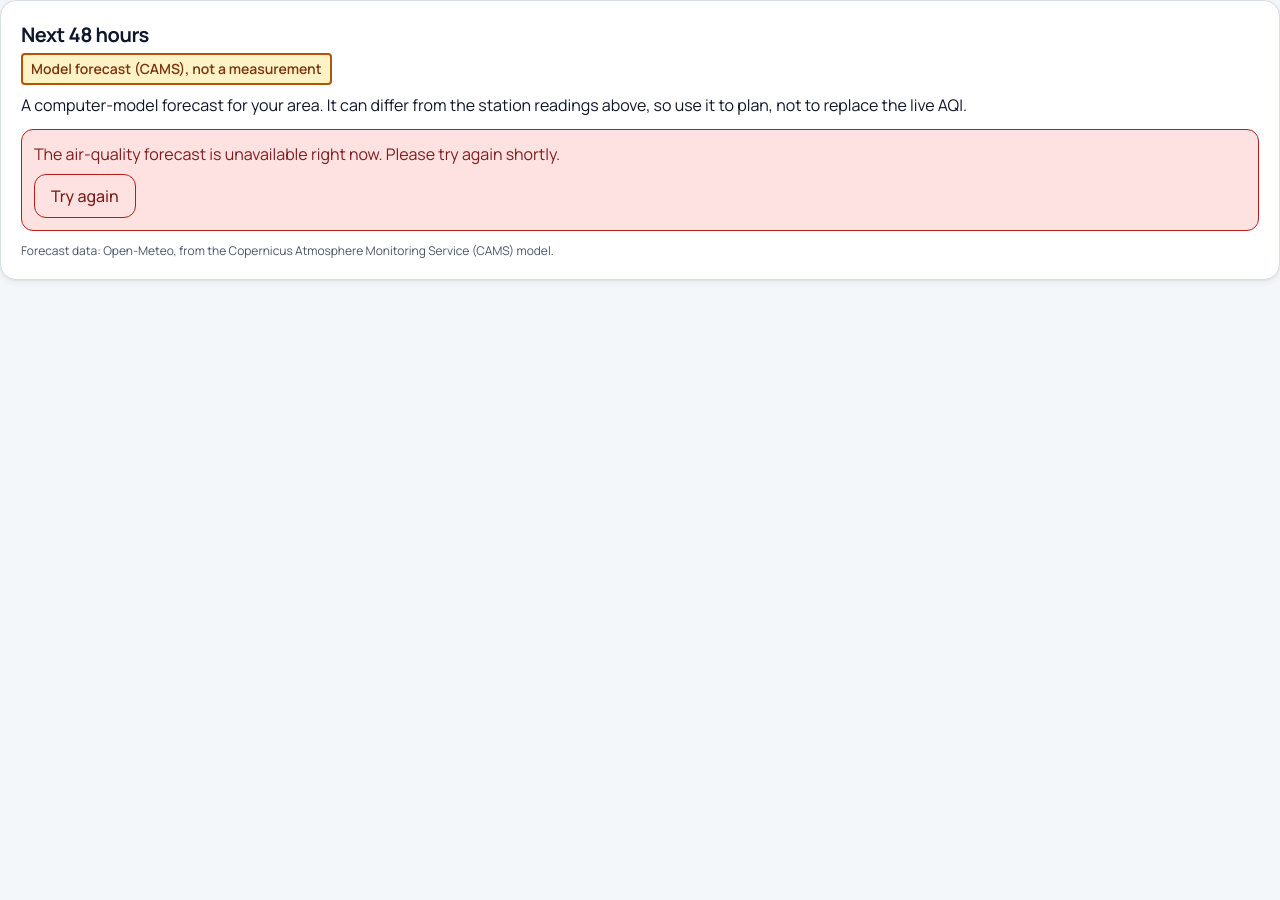
Test: Outlook › shows a readable error and retries
Expected: the message shows "The air-quality forecast is unavailable right now.", [34, 143, 560, 165]
Click the button "Try again" at coordinates (85, 196), box [34, 174, 136, 218]
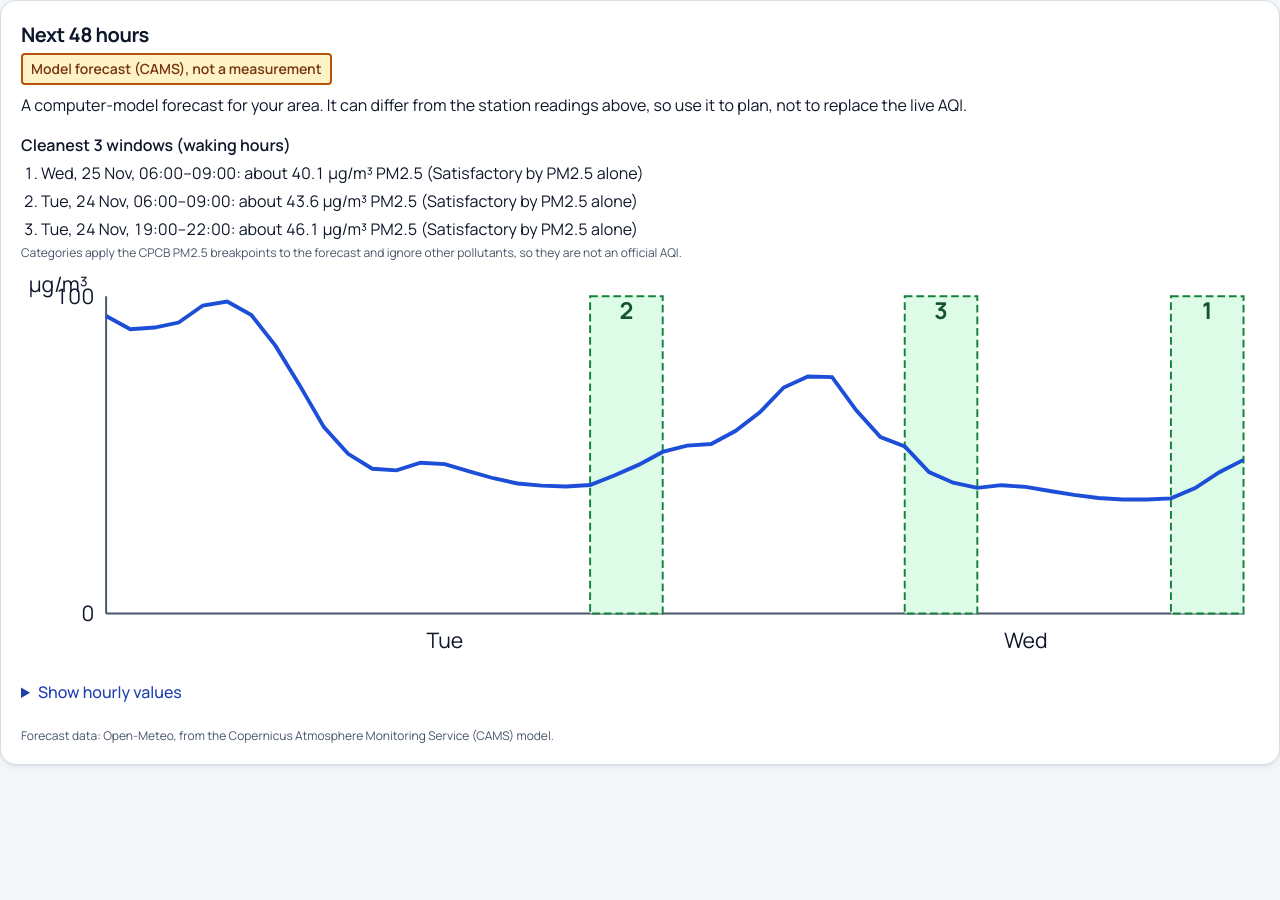
Now the list is shown, box [41, 162, 644, 240]
Now the message is gone
